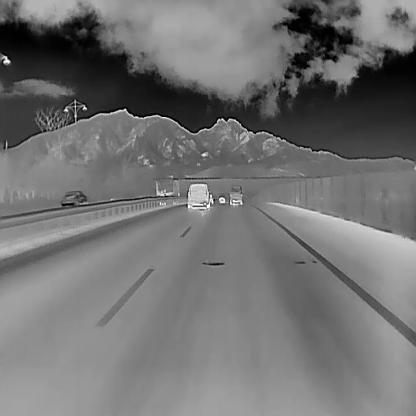car: (153, 177, 181, 204), (57, 189, 87, 210), (186, 182, 210, 208), (229, 183, 243, 206), (218, 194, 226, 206), (208, 192, 214, 206)
